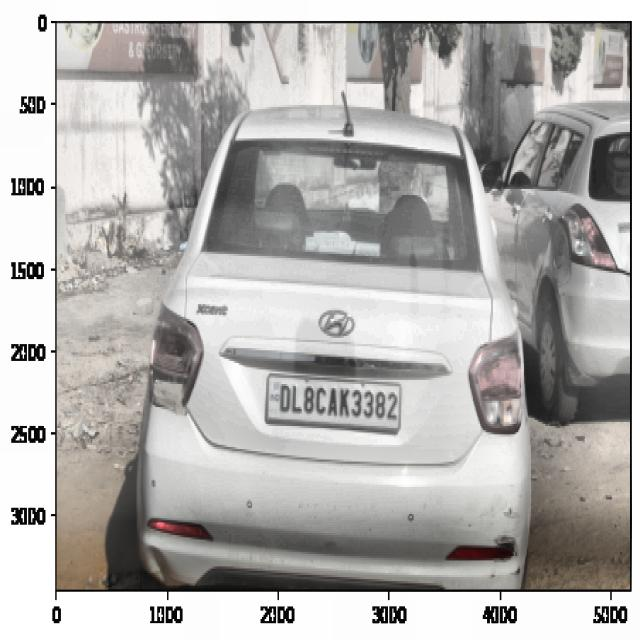license_plate: (275, 377, 399, 429)
